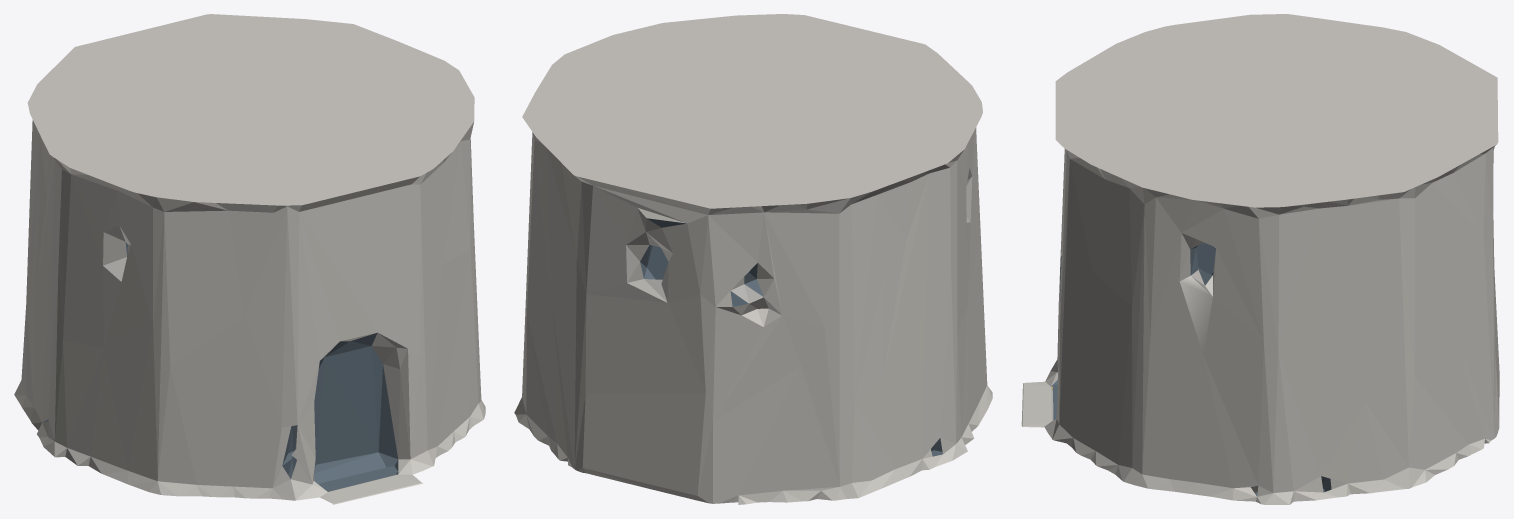
Rendered from etape-1.glb.
3 views of the same model, side by side, from view 1: azimuth 30°, elevation 25°; view 2: azimuth 150°, elevation 25°; view 3: azimuth 270°, elevation 25° (orthographic).
Parts seen in each view (by area): view 1: geometry_0; view 2: geometry_0; view 3: geometry_0.
Part boxes in pixels (<box>): geometry_0: <box>14,14,485,504</box>; geometry_0: <box>514,14,992,504</box>; geometry_0: <box>1021,14,1499,504</box>.
Bounding box in the file's own units: 0.6199 × 0.4237 × 0.6242.
